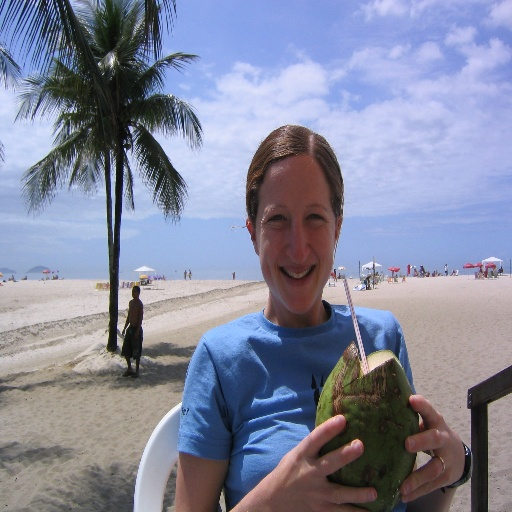hand: (256, 426, 369, 502), (399, 393, 464, 504), (120, 328, 125, 337), (134, 331, 138, 338)
